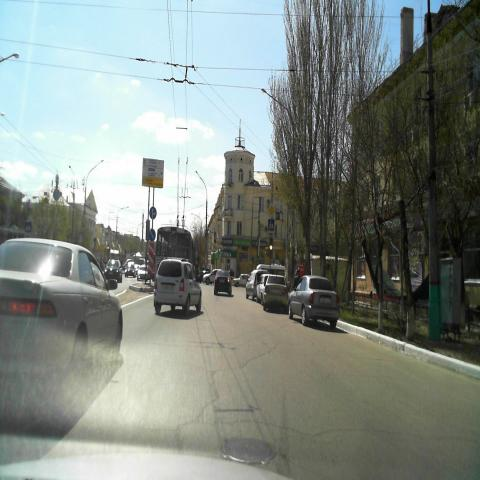2_1: (268, 203, 276, 217)
